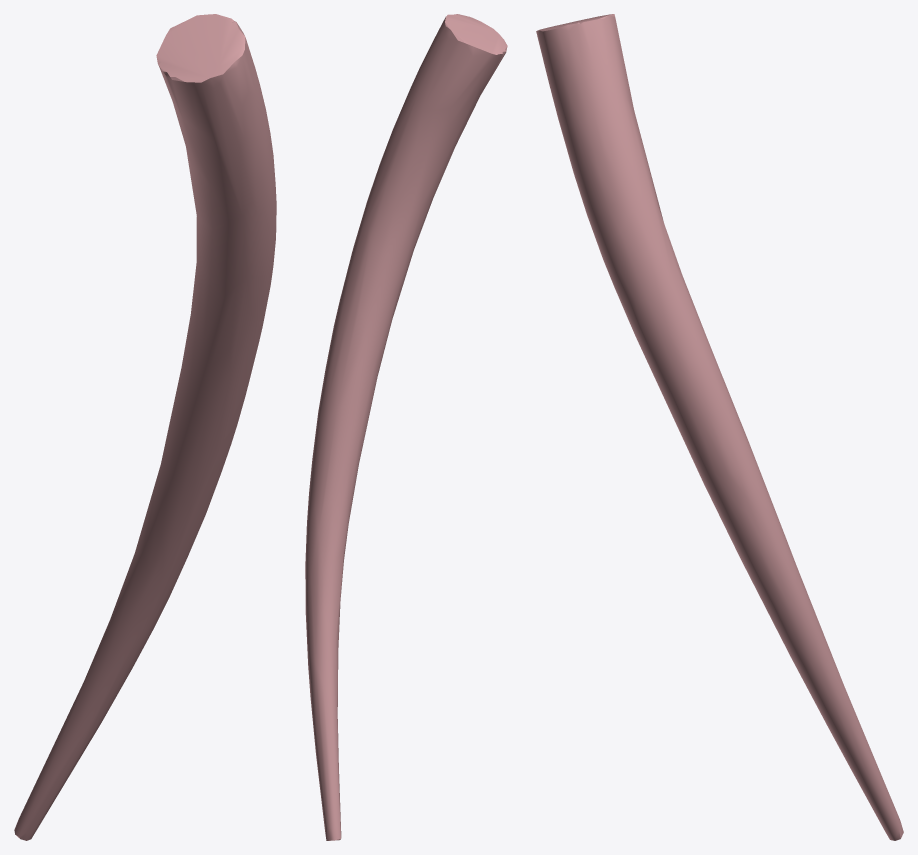
File: fma68233_fj6513.glb
3 views of the same model, side by side, from view 1: azimuth 30°, elevation 25°; view 2: azimuth 150°, elevation 25°; view 3: azimuth 270°, elevation 25° (orthographic). The views are drawn at different scales.
Parts seen in each view (by area): view 1: FMA68233_FJ6513; view 2: FMA68233_FJ6513; view 3: FMA68233_FJ6513.
Boxes of the visible parts, left/top/right/bottom form: FMA68233_FJ6513: left=14, top=14, right=276, bottom=840; FMA68233_FJ6513: left=305, top=14, right=507, bottom=840; FMA68233_FJ6513: left=536, top=14, right=903, bottom=840.
Bounding box in the file's own units: 0.0174 × 0.1017 × 0.0409.
